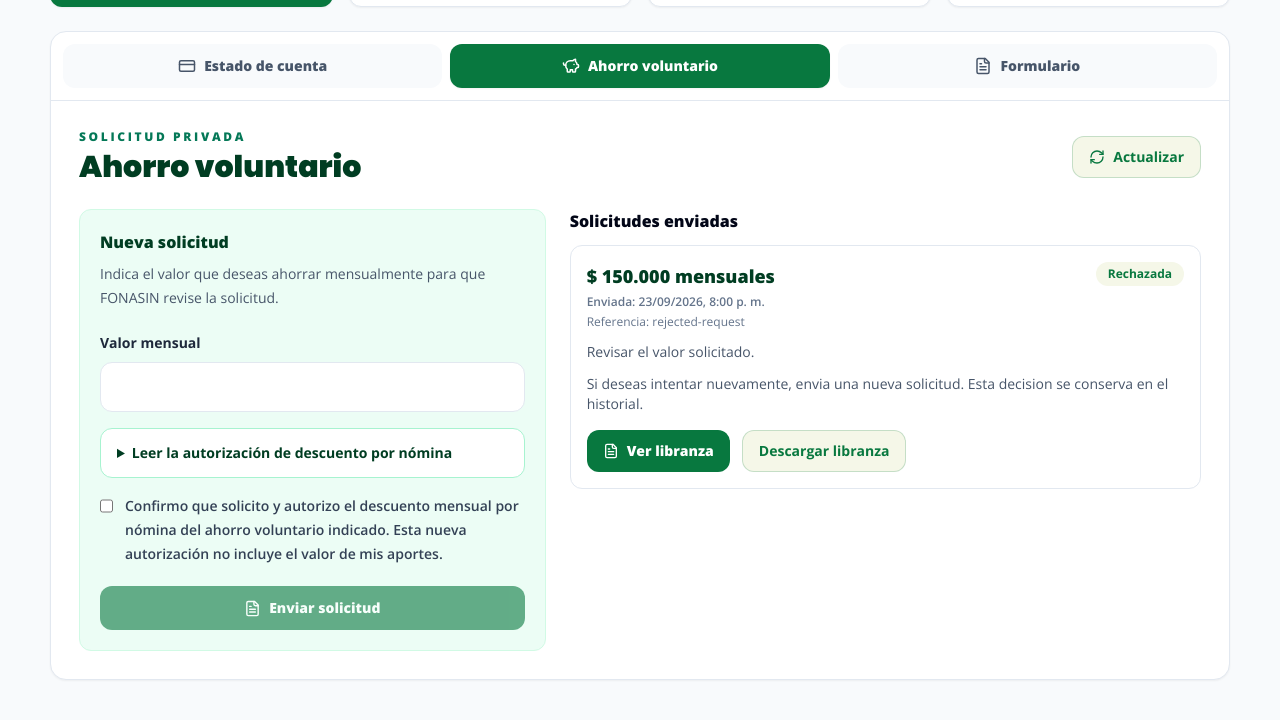
Test: AppRoutes › keeps a rejected request visible and submits a new one with an owned authorization
(page scrolled)
Expected: the text "Revisar el valor solicitado." is shown, top-left (587, 342), bottom-right (754, 361)
Expected: the text "envia una nueva solicitud" is shown, top-left (587, 374), bottom-right (1168, 413)
In the field labelled "Valor mensual": (312, 387) top-left (100, 362), bottom-right (525, 412), type "100000"
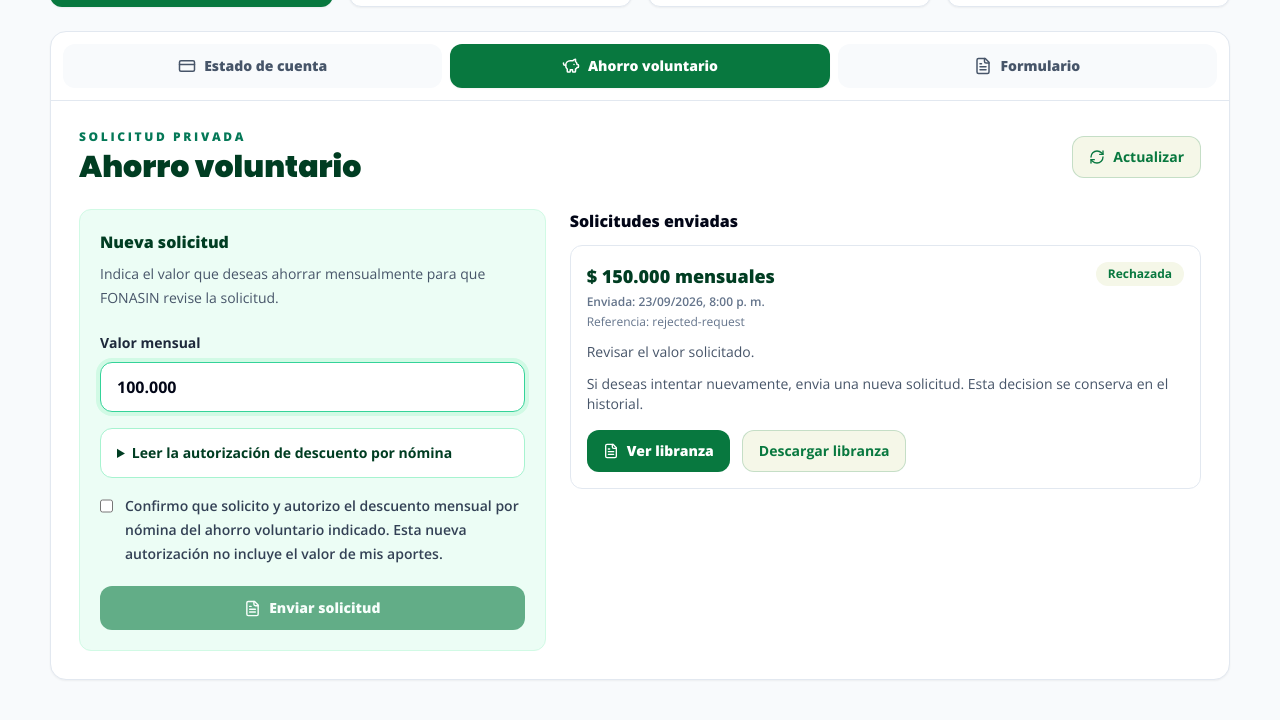
Click the checkbox labelled "Confirmo que solicito y autorizo": (106, 506) top-left (100, 498), bottom-right (113, 514)
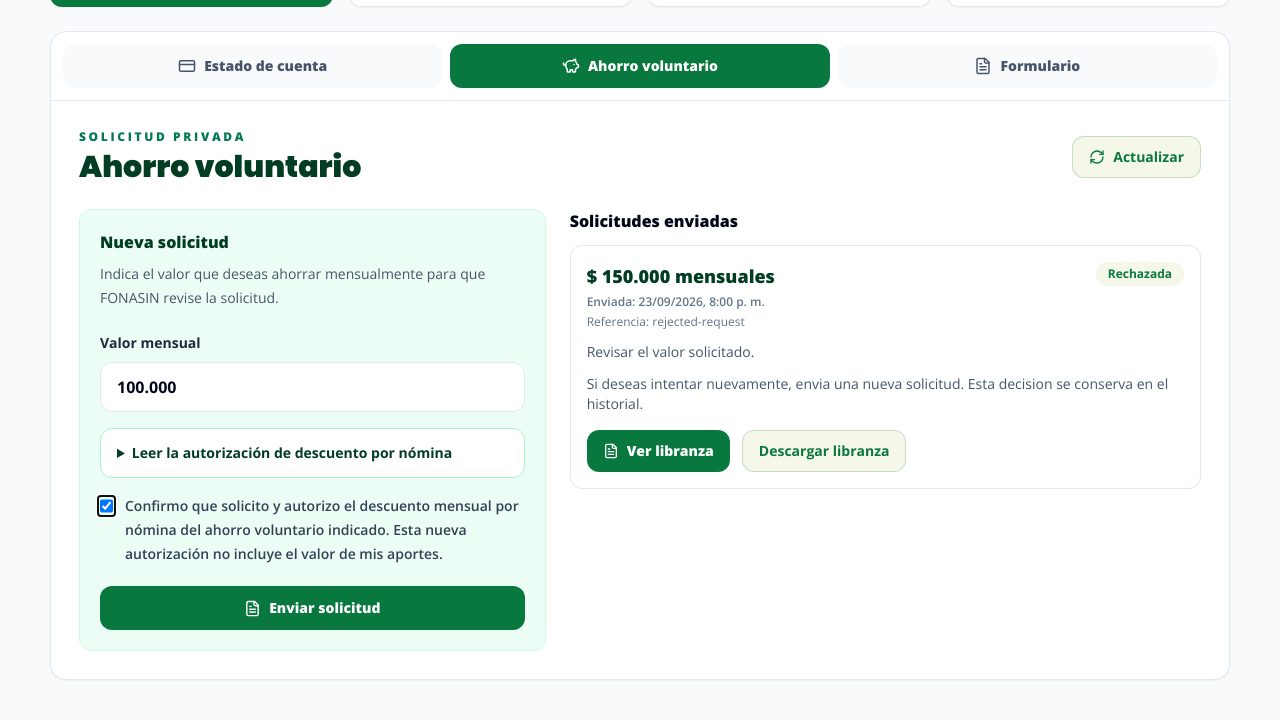
Click the button "Enviar solicitud": (312, 608) top-left (100, 586), bottom-right (525, 630)
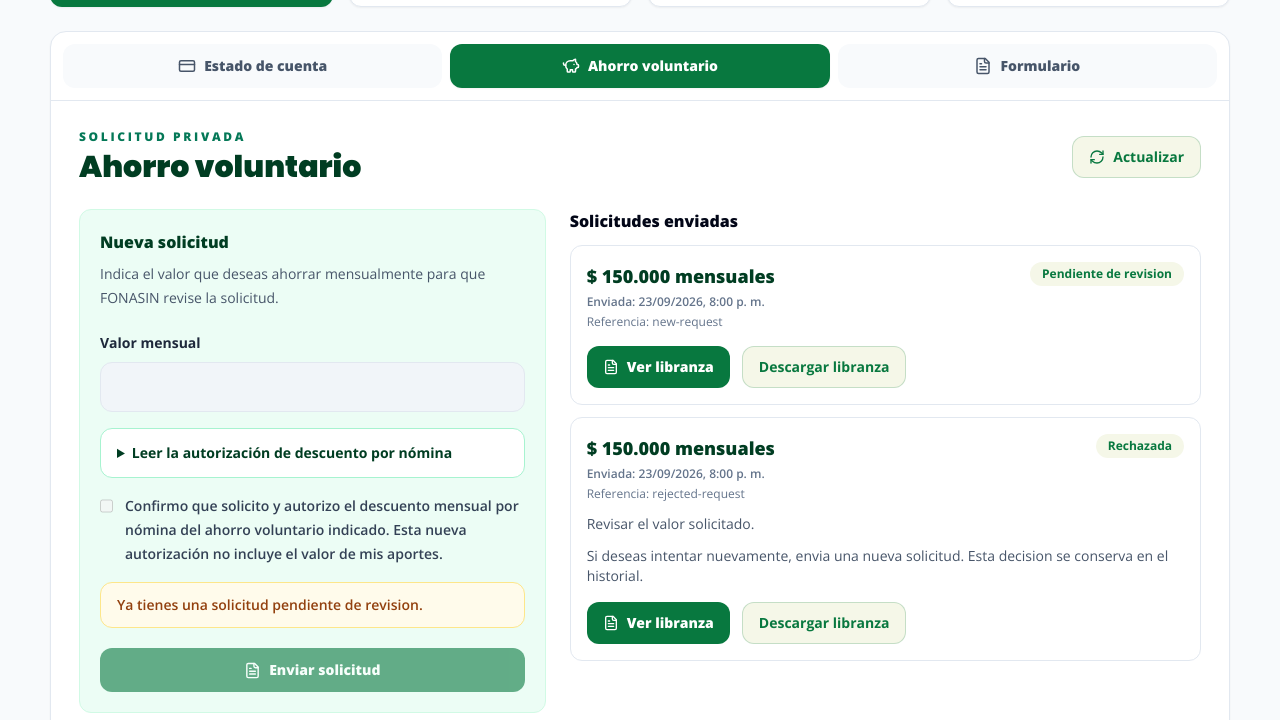
Expected: the text "Revisar el valor solicitado." is shown, top-left (587, 514), bottom-right (754, 533)
Expected: the button "Enviar solicitud" is disabled, top-left (100, 648), bottom-right (525, 692)
